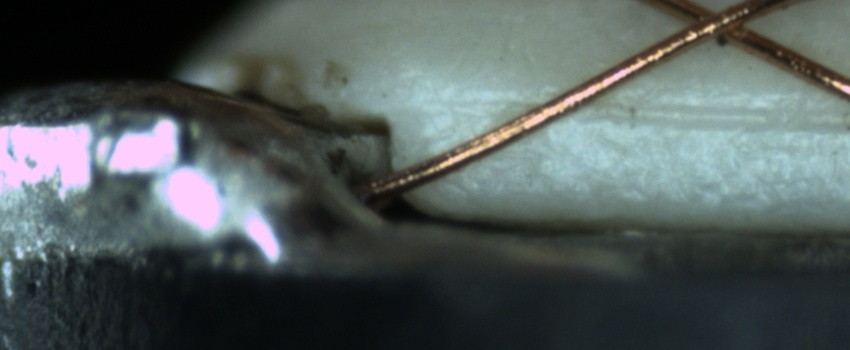CL: (659, 1, 768, 48)
DL: (414, 78, 850, 137)
